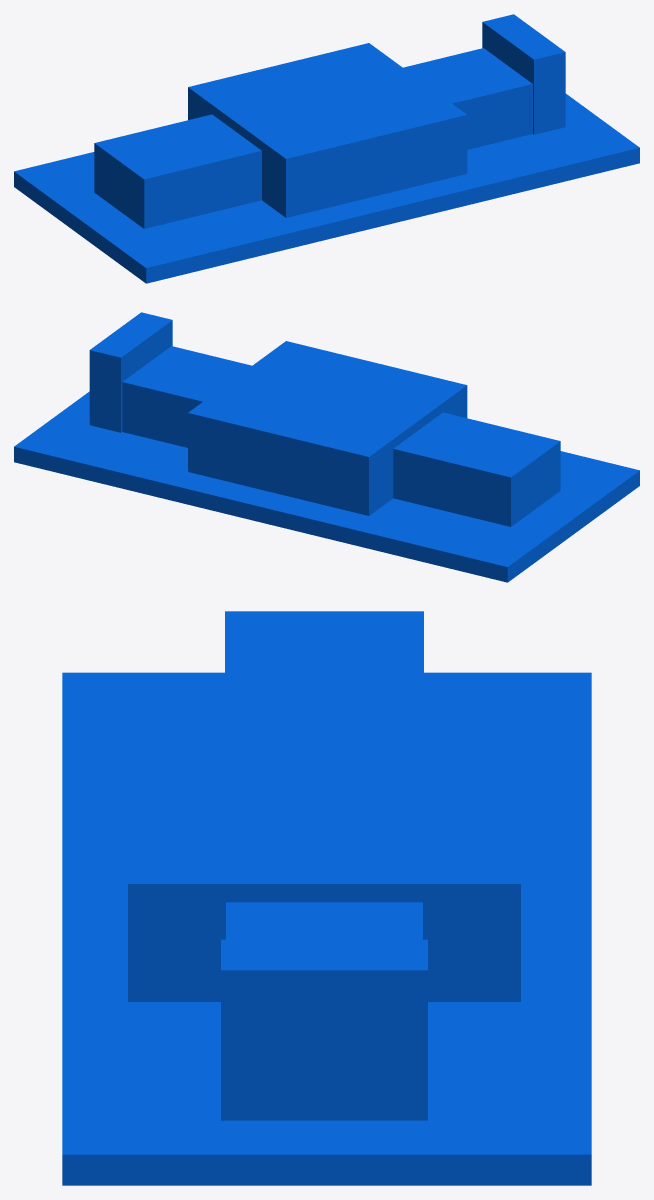
File: Jig 1.fbx
3 views of the same model, one above another, from view 1: azimuth 30°, elevation 25°; view 2: azimuth 150°, elevation 25°; view 3: azimuth 270°, elevation 25° (orthographic). The views are drawn at different scales.
Visible parts, largest first — view 1: Cube.001; view 2: Cube.001; view 3: Cube.001.
Part boxes in pixels (x1,y1,x2,y2): Cube.001: (14,14,639,283); Cube.001: (14,312,639,582); Cube.001: (62,611,591,1185).
Size of the model in its own units: 780 by 138 by 362.
